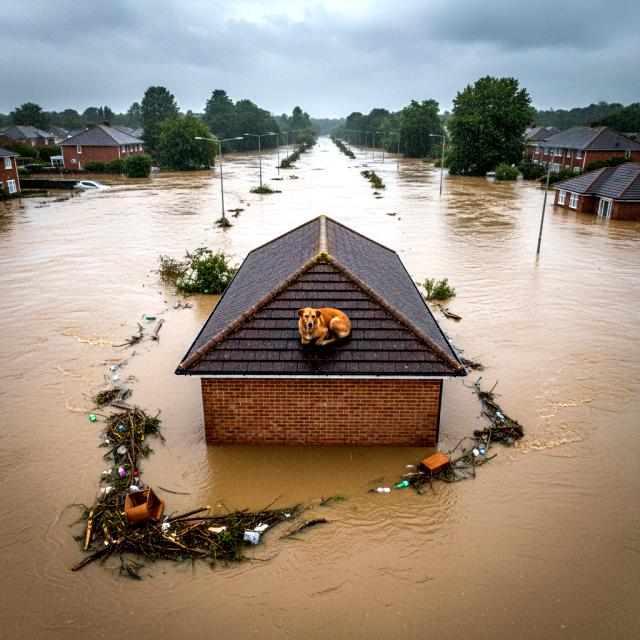dog: (290, 297, 358, 353)
